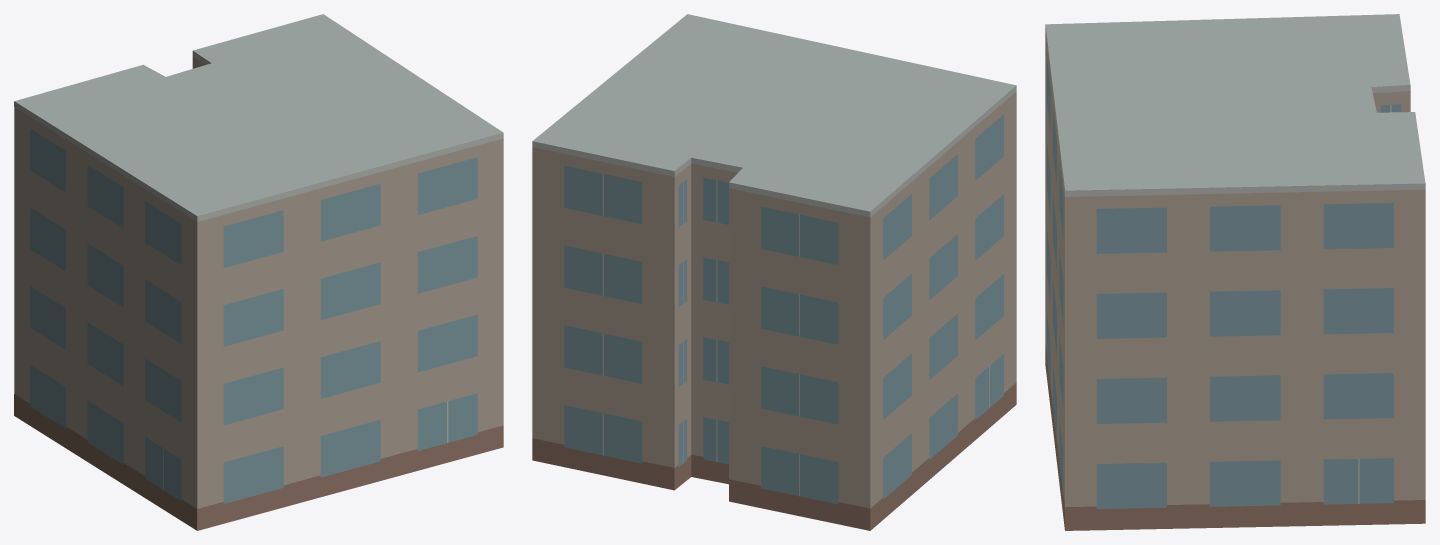
Rendered from survey-upis-32981820.glb.
3 views of the same model, side by side, from view 1: azimuth 30°, elevation 25°; view 2: azimuth 150°, elevation 25°; view 3: azimuth 270°, elevation 25° (orthographic). The views are drawn at different scales.
Parts seen in each view (by area): view 1: survey-upis-32981820.tmp; view 2: survey-upis-32981820.tmp; view 3: survey-upis-32981820.tmp.
Part boxes in pixels (x1,y1,x2,y2): survey-upis-32981820.tmp: (14, 14, 503, 530); survey-upis-32981820.tmp: (532, 14, 1016, 530); survey-upis-32981820.tmp: (1045, 14, 1425, 530).
Size of the model in its own units: 14.88 by 13.35 by 13.53.
